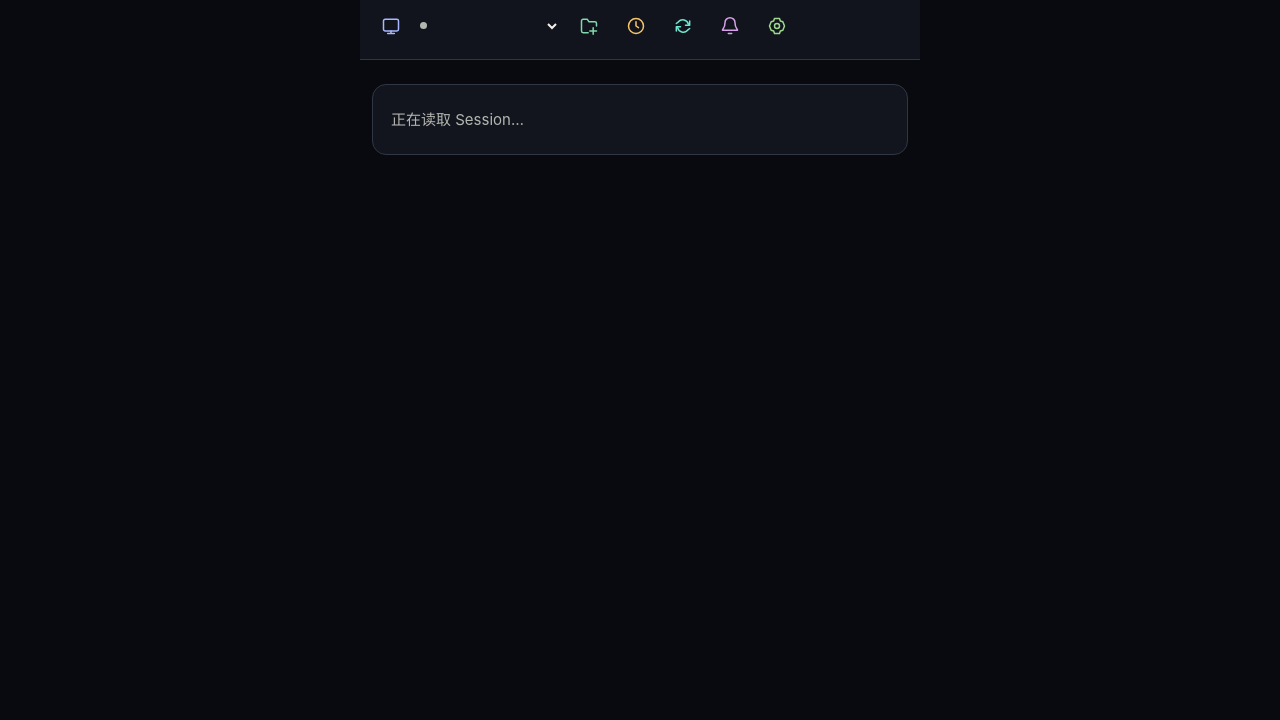
AgentPort Mobile V2 shell › keeps device management reachable as a modal sheet
The width and height of the screenshot is (1280, 720).
Step 1. Click the button named "管理设备" → (391, 26), box 369,4 -> 413,48
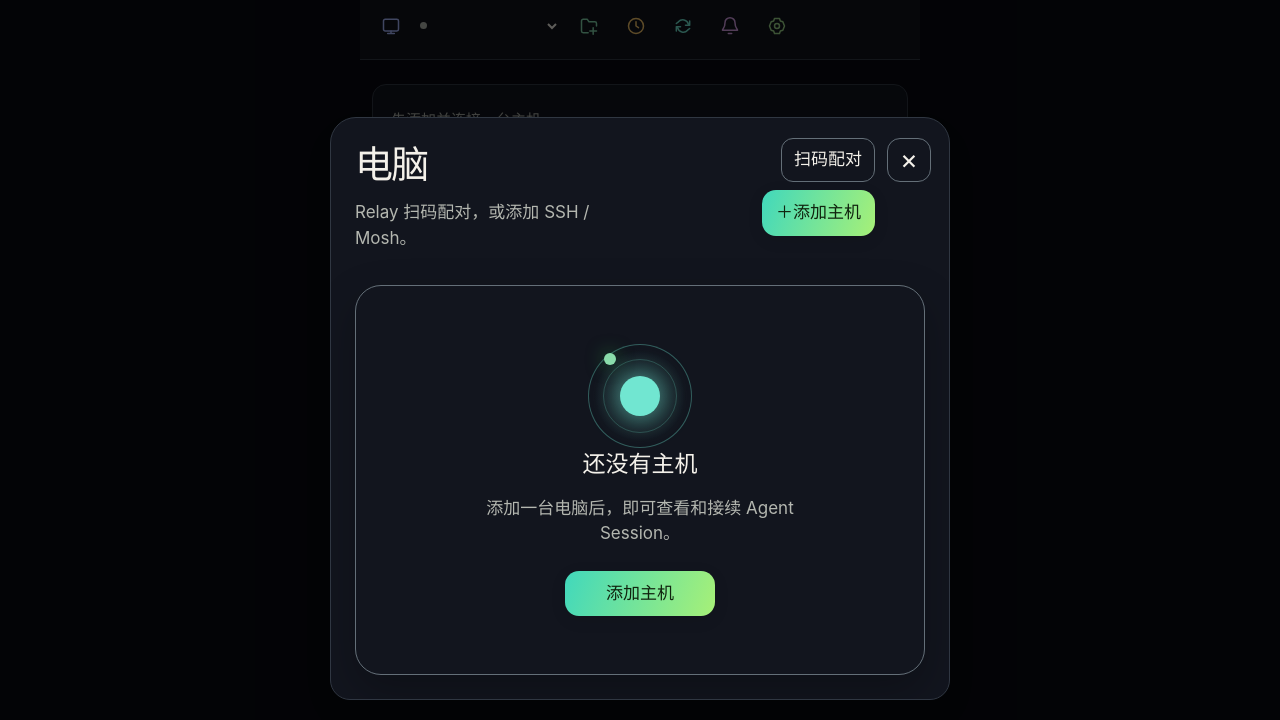
Expected: the dialog "电脑" is shown, 330,117 -> 950,700
Expected: the heading "还没有主机" is shown, 582,448 -> 698,480
Step 2. Press Escape
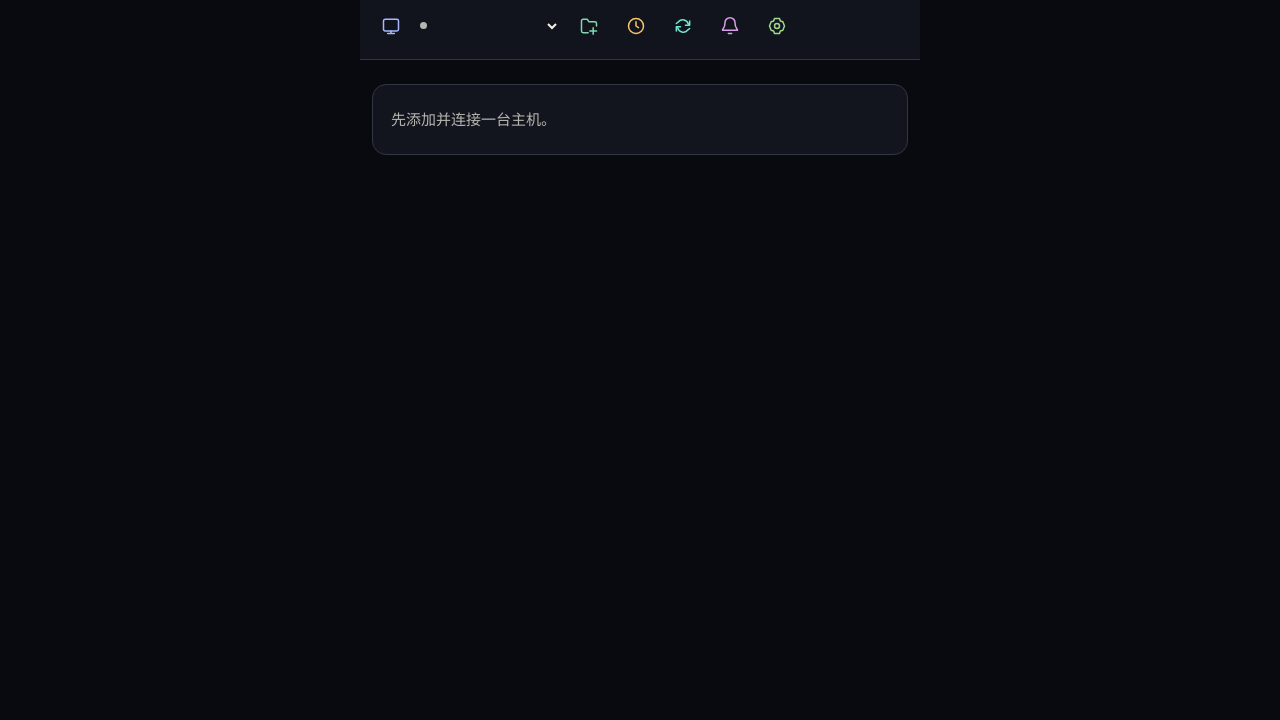
Expected: the heading "电脑" is gone
